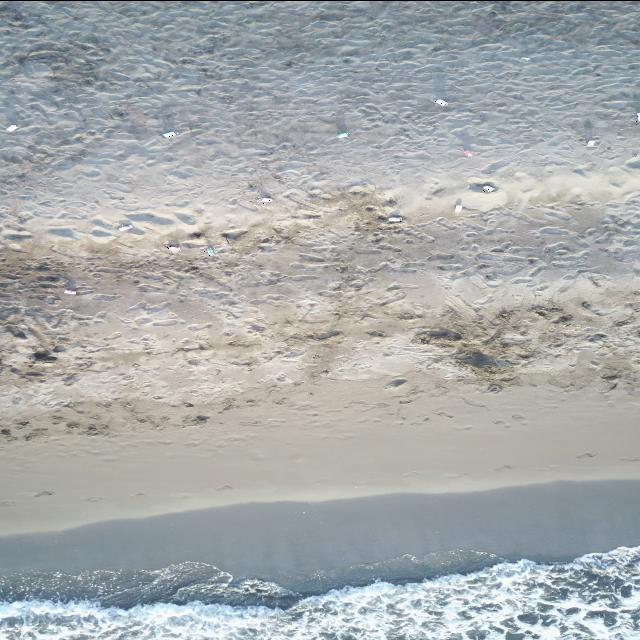Garbage: (32, 348, 56, 362), (221, 228, 247, 240), (335, 112, 347, 138), (468, 181, 496, 192), (384, 377, 407, 387), (164, 243, 180, 252), (387, 213, 402, 221), (453, 200, 462, 213), (161, 131, 176, 138), (483, 184, 495, 192), (119, 223, 131, 231), (5, 123, 16, 131), (260, 196, 272, 203), (204, 246, 212, 256), (336, 131, 347, 138), (463, 148, 472, 156), (192, 232, 203, 238), (435, 98, 447, 103), (587, 140, 595, 147), (64, 288, 75, 293), (635, 111, 639, 123), (520, 56, 529, 60), (47, 492, 51, 493)
